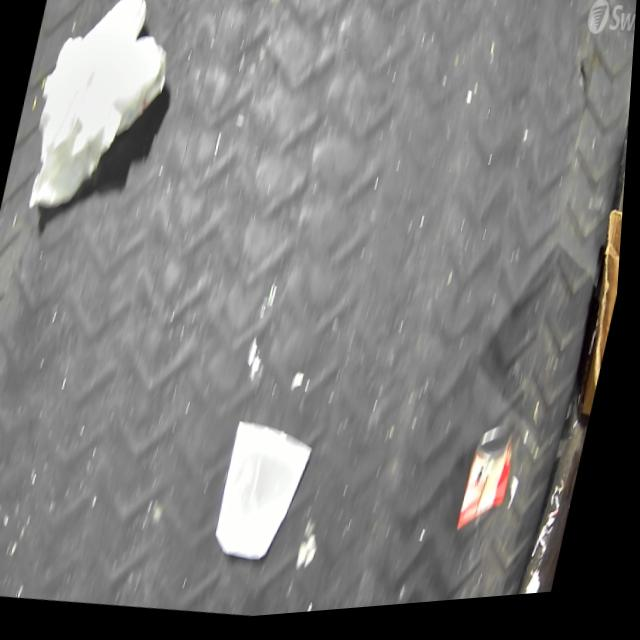can: (461, 425, 528, 547)
